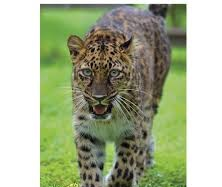amur_leopard: (54, 7, 172, 180)
